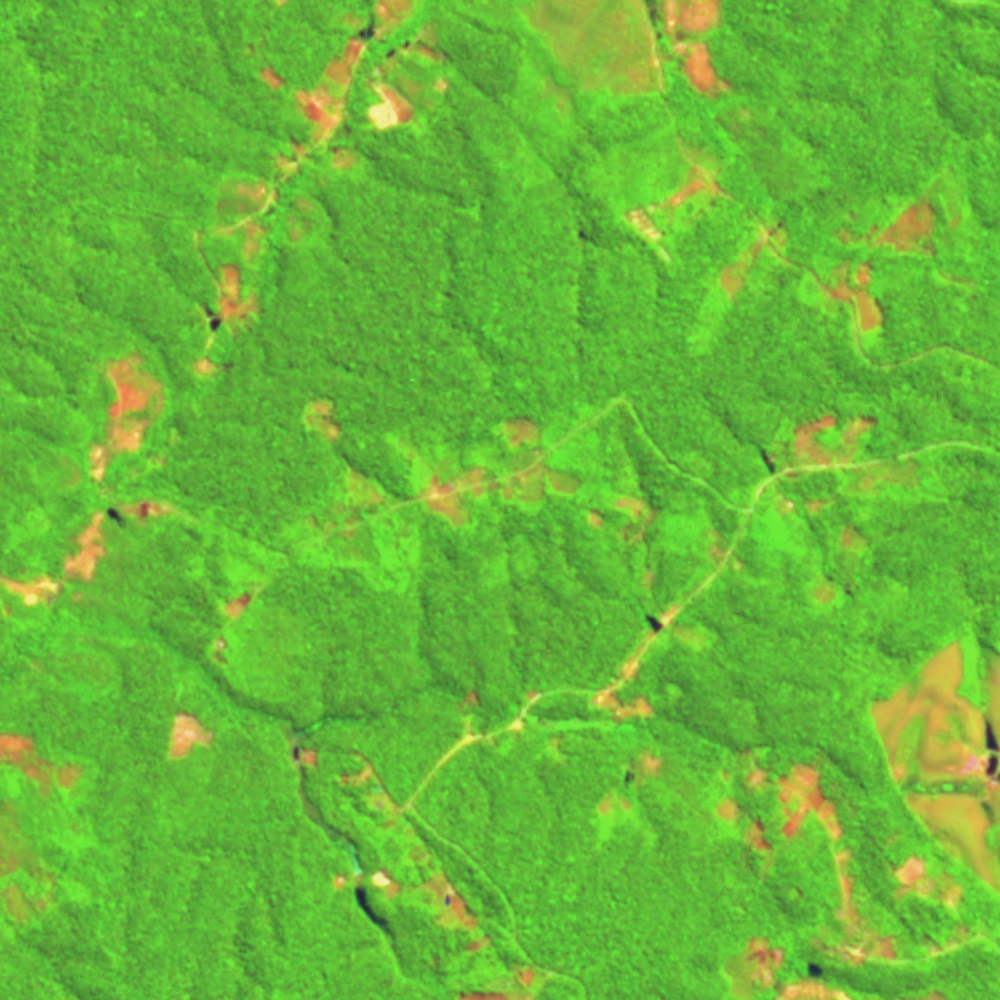legal: (716, 741, 902, 968), (246, 1, 456, 180), (867, 634, 1000, 890), (281, 745, 406, 966), (802, 187, 967, 327), (1, 496, 177, 618), (518, 1, 737, 98), (417, 415, 584, 527), (1, 727, 81, 929), (75, 349, 170, 492), (303, 395, 389, 539), (409, 843, 500, 963), (780, 496, 870, 616), (215, 176, 326, 263), (190, 256, 265, 376), (623, 162, 729, 246), (759, 411, 885, 480), (580, 488, 659, 596), (721, 937, 855, 1000), (455, 680, 553, 750), (597, 745, 669, 836), (719, 215, 794, 300), (890, 848, 959, 915), (600, 659, 657, 727), (459, 967, 547, 1000), (159, 708, 216, 758), (643, 609, 712, 650), (695, 534, 747, 574), (224, 577, 267, 620), (927, 923, 975, 956), (209, 633, 230, 673)
